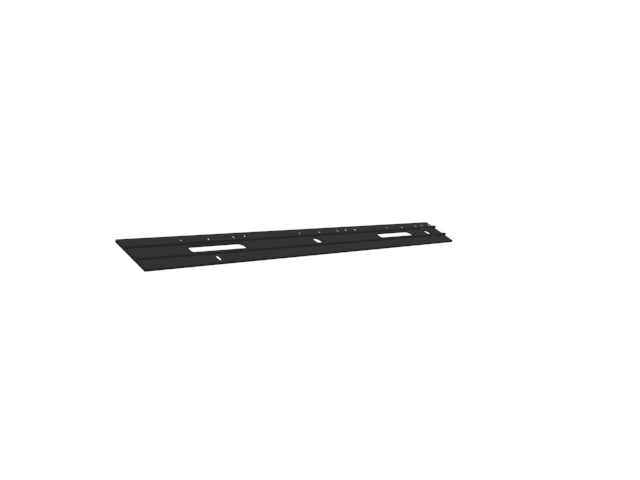ruler: (113, 217, 456, 272)
